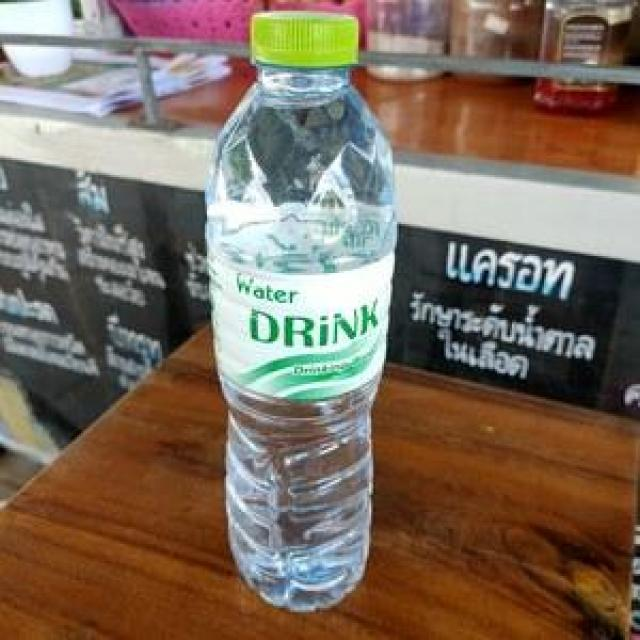bottle: (196, 0, 397, 610)
